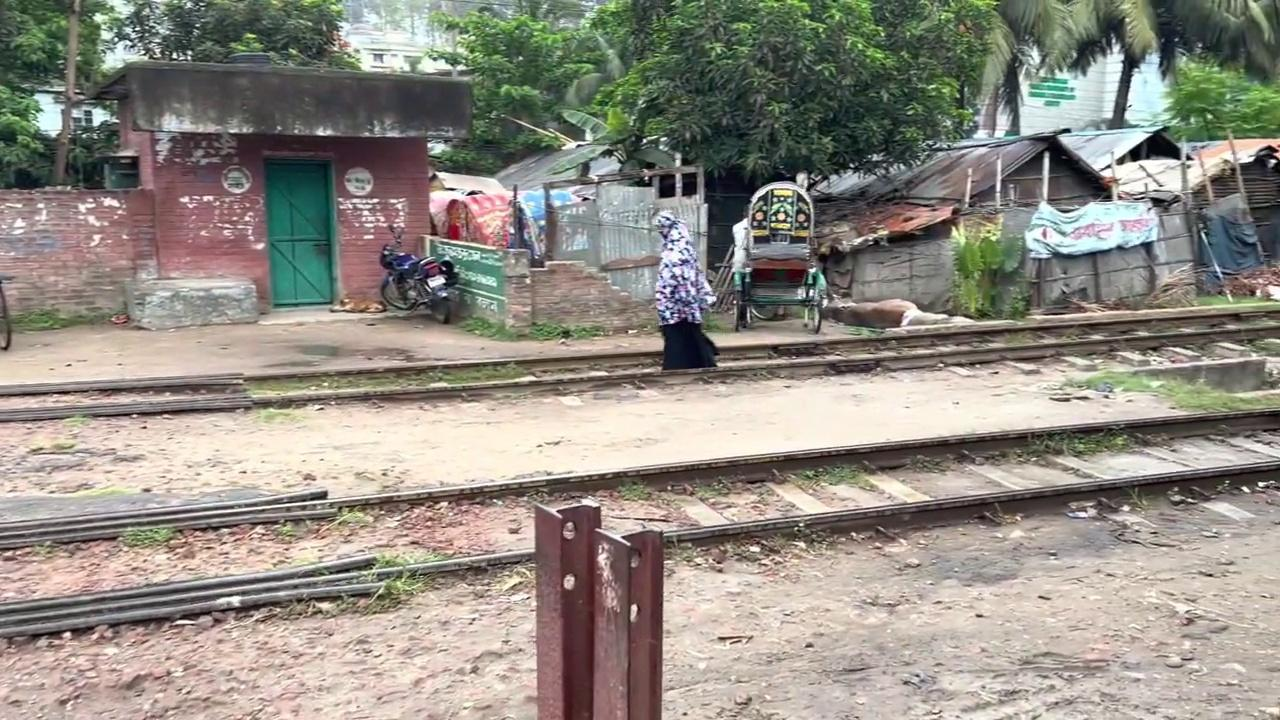Cat: (820, 294, 973, 329)
Curb: (378, 222, 460, 324)
Downstairs: (531, 498, 664, 718)
Fence: (653, 209, 719, 370)
Garbage: (48, 0, 82, 185)
Motorcycle: (1, 299, 1278, 420)
Muddy road: (731, 179, 827, 334)
